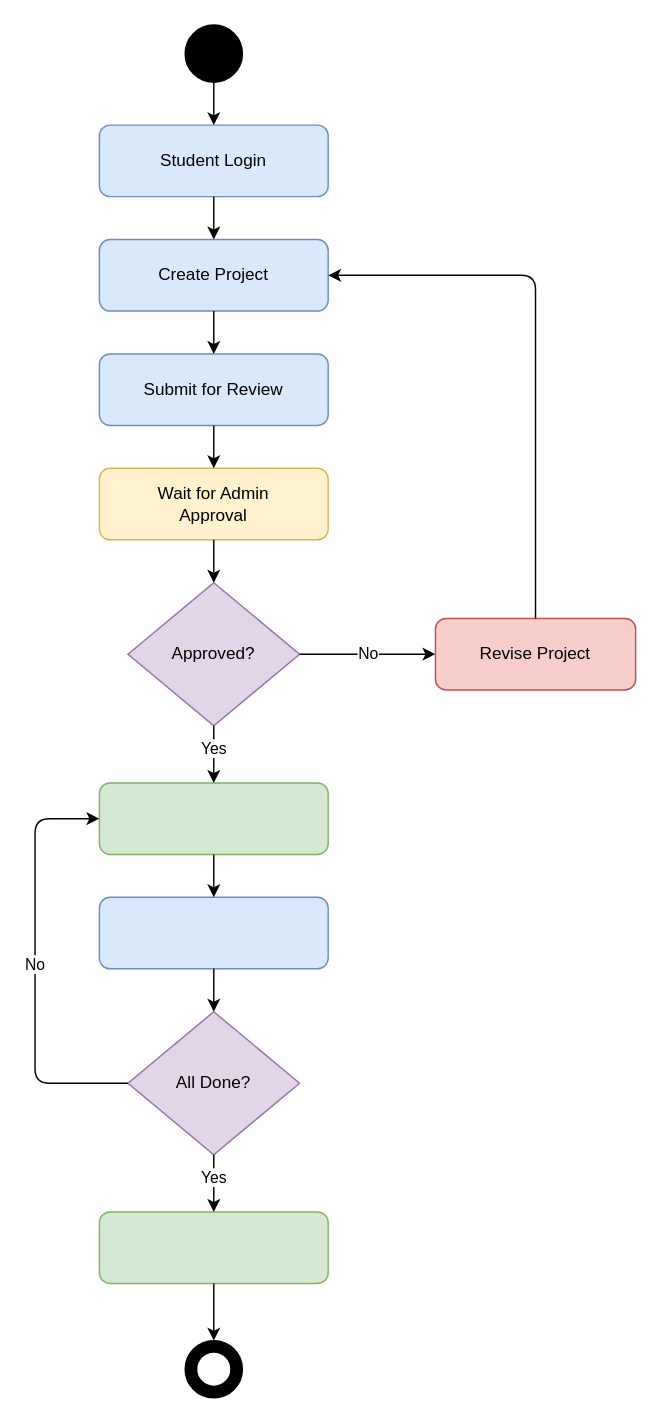
This 661x1423 diagram has some shape labels left out. Here are the shapes that lost their labels. From the top down, the centre of each, then its label:
(213,817): Work on Project
(213,932): Submit Deliverable
(213,1246): Final Defense
